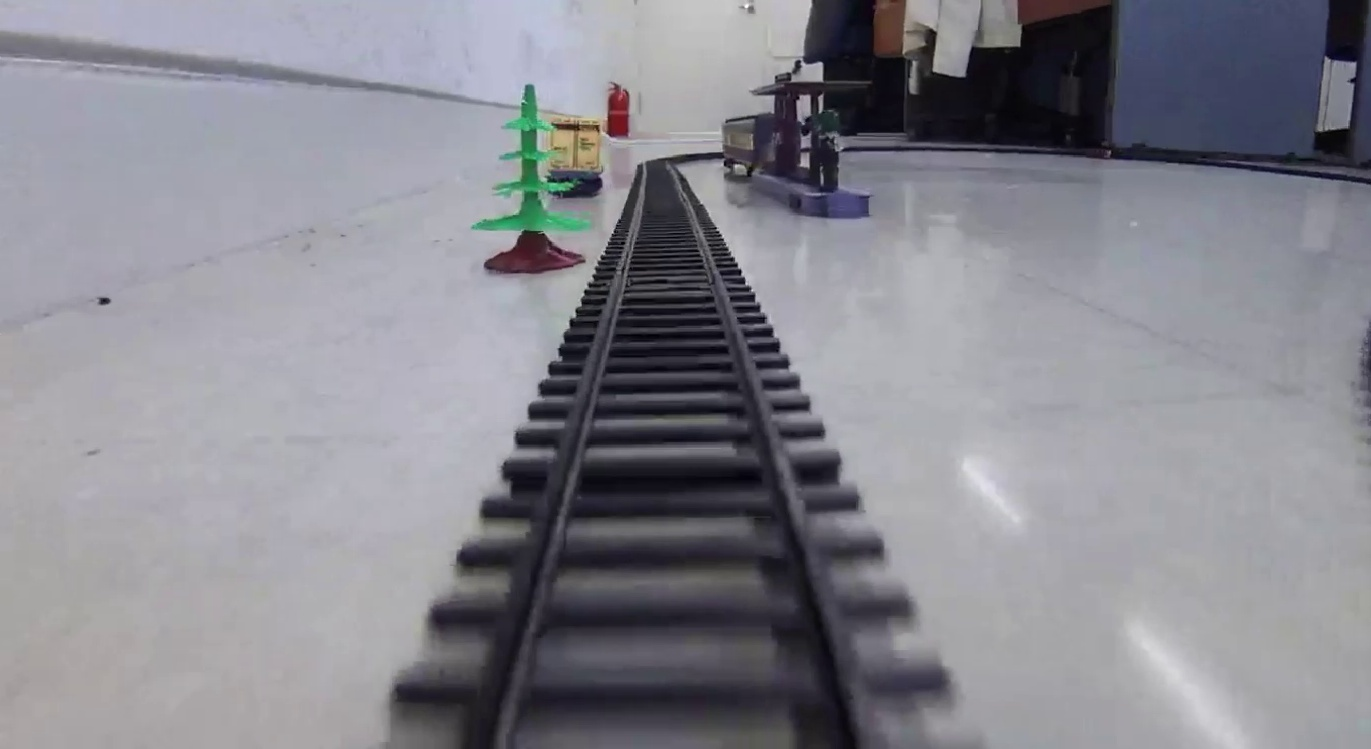tree: (474, 84, 592, 272)
